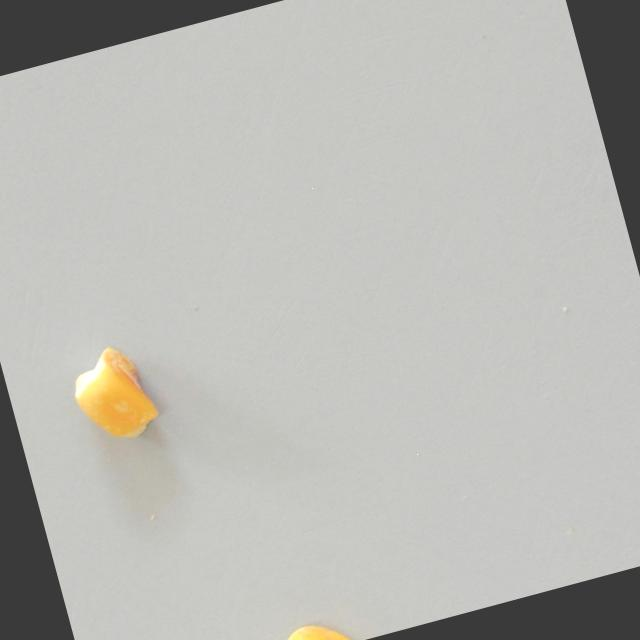dañado: (61, 337, 164, 452), (245, 609, 367, 640)
